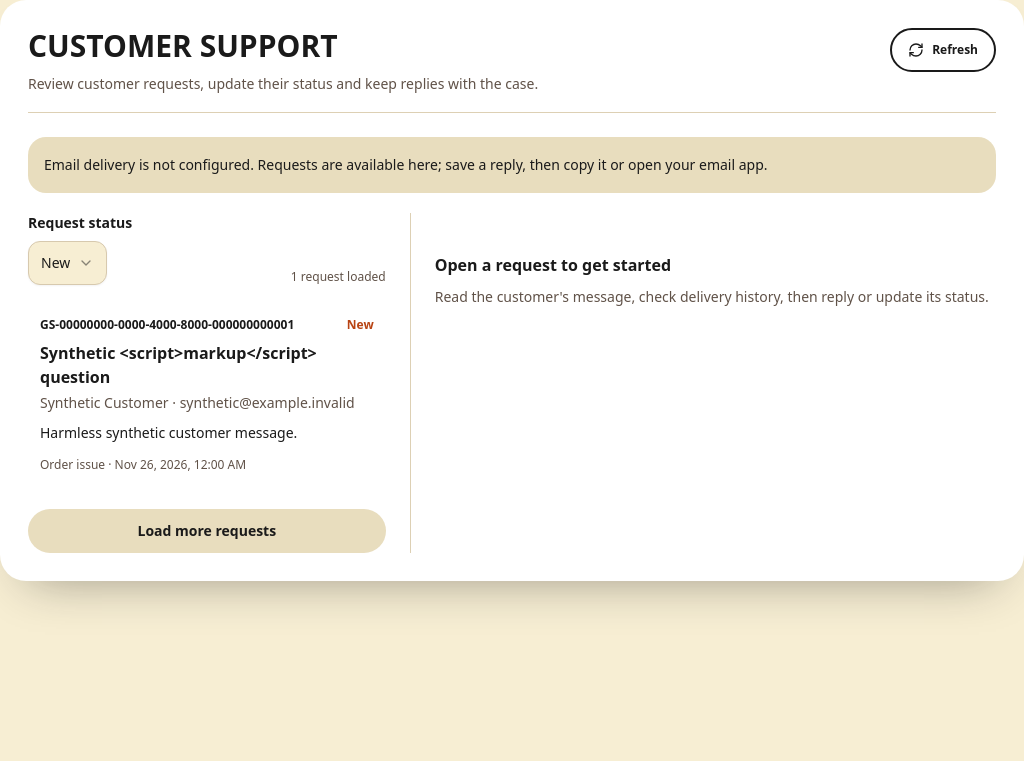
Test case: Administrative support UI › loads another cursor page and displays customer markup as text
Click the button "Load more requests" at (207, 531), box [28,509,386,553]
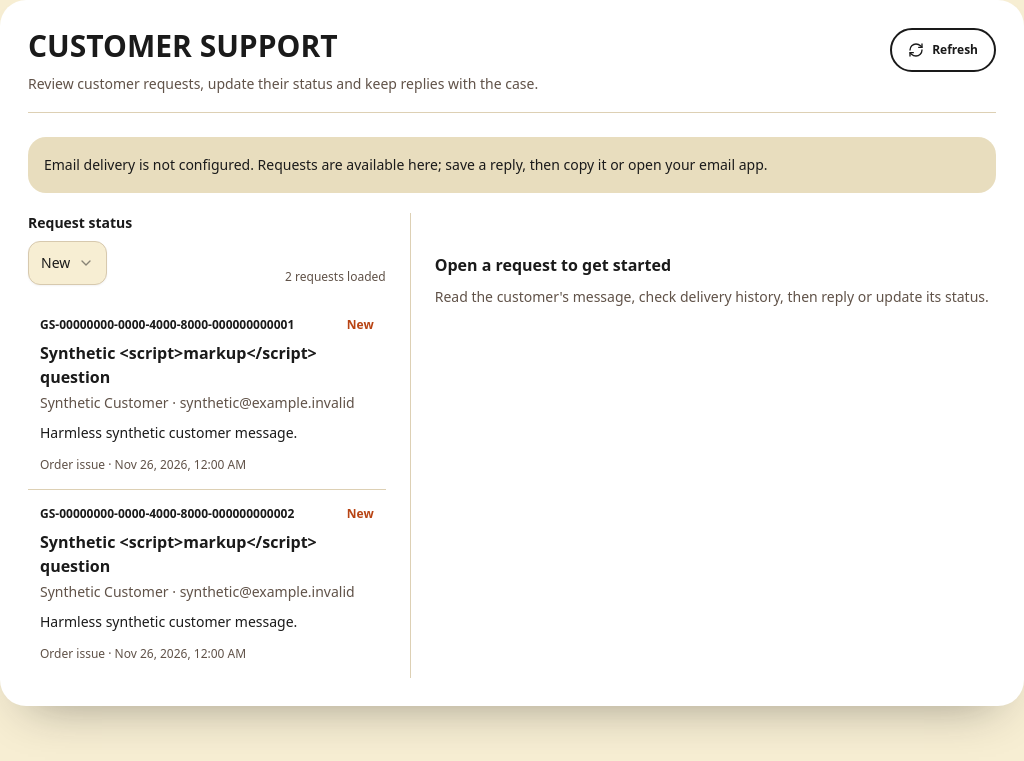
Expected: the number of buttons named "Open GS-" is 2
Click the button with aria-label "Open GS-" at (207, 395), box [28,301,386,489]
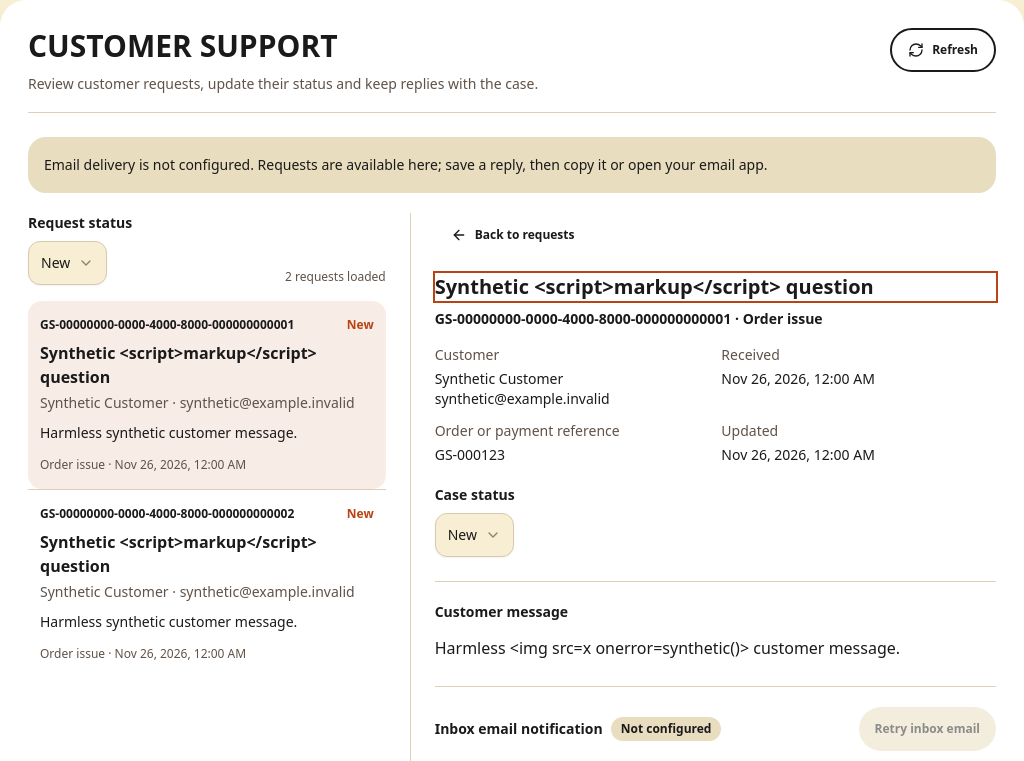
Expected: the text "Harmless <img src=x onerror=synthetic()> customer message." is shown, [435,637,900,659]
